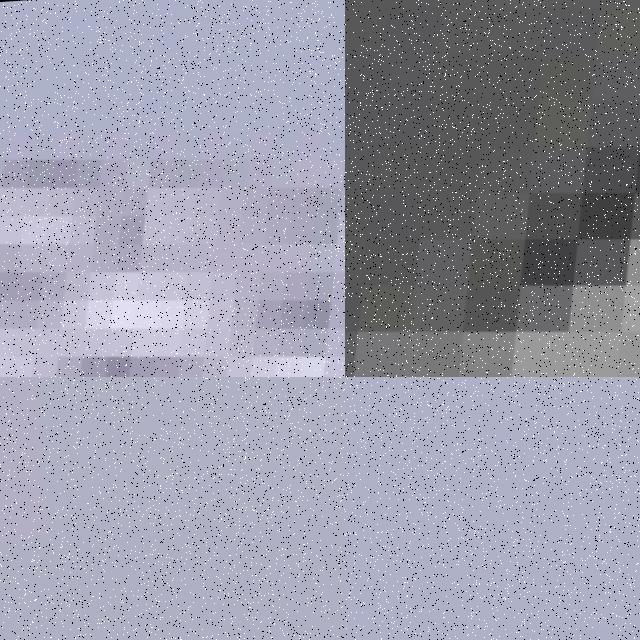0: (0, 0, 345, 377)
drone: (345, 0, 640, 377)
